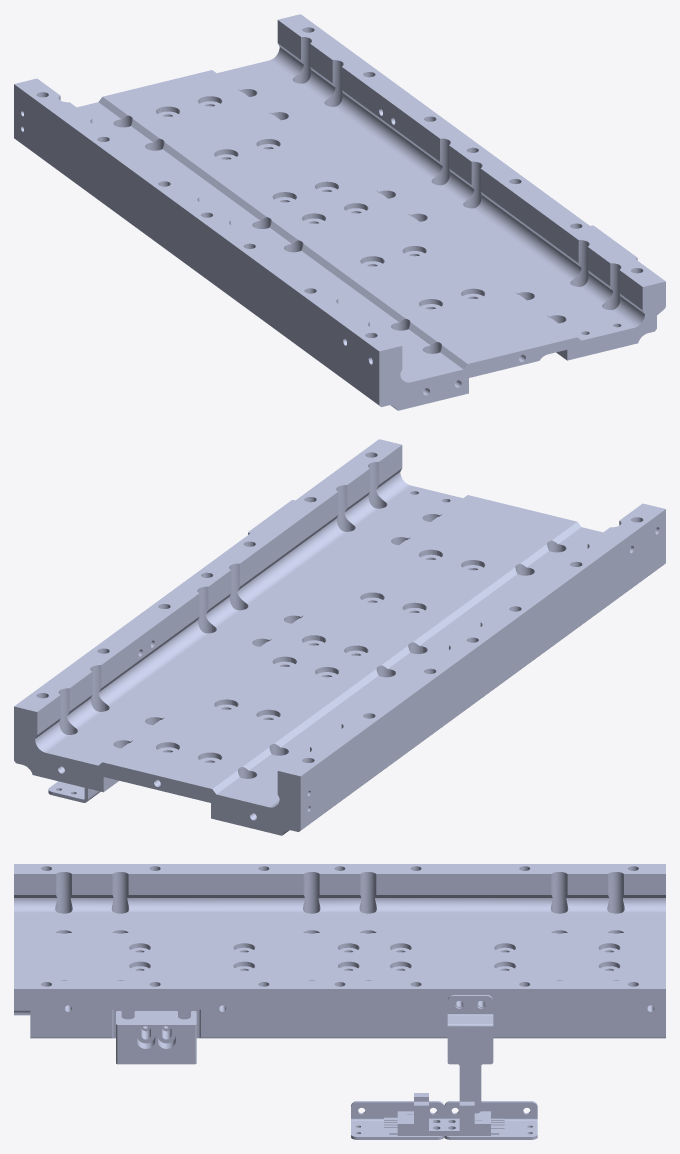
Rendered from MTA-15.glb.
3 views of the same model, one above another, from view 1: azimuth 30°, elevation 25°; view 2: azimuth 150°, elevation 25°; view 3: azimuth 270°, elevation 25° (orthographic). The views are drawn at different scales.
Parts seen in each view (by area): view 1: 134X-12-MTA15-23091201_node; view 2: 134X-12-MTA15-23091201_node, 134X-30-1_X2_5f0051735b8988c5652f67b6_X0_V1.0_node; view 3: 134X-12-MTA15-23091201_node, 134X-31-1 _X2_59167f6e906e632194a391d1_X0_V1.0_node, 134X-101-5_X2_8bfb657059348fde63a55757_X0_V1.0, 134X-30-1_X2_5f0051735b8988c5652f67b6_X0_V1.0_node_1, 134X-30-1_X2_5f0051735b8988c5652f67b6_X0_V1.0_node, SH-SL674_X2_5f005173_X0__node, SH-SL674_X2_5f005173_X0__node_1.
Part boxes in pixels (x1=…): 134X-12-MTA15-23091201_node: x1=14, y1=14, x2=665, y2=410; 134X-12-MTA15-23091201_node: x1=14, y1=439, x2=665, y2=835; 134X-30-1_X2_5f0051735b8988c5652f67b6_X0_V1.0_node: x1=48, y1=781, x2=100, y2=802; 134X-12-MTA15-23091201_node: x1=14, y1=864, x2=665, y2=1038; 134X-31-1 _X2_59167f6e906e632194a391d1_X0_V1.0_node: x1=447, y1=995, x2=493, y2=1113; 134X-101-5_X2_8bfb657059348fde63a55757_X0_V1.0: x1=116, y1=1011, x2=196, y2=1064; 134X-30-1_X2_5f0051735b8988c5652f67b6_X0_V1.0_node_1: x1=351, y1=1101, x2=444, y2=1139; 134X-30-1_X2_5f0051735b8988c5652f67b6_X0_V1.0_node: x1=444, y1=1101, x2=537, y2=1139; SH-SL674_X2_5f005173_X0__node: x1=384, y1=1093, x2=444, y2=1135; SH-SL674_X2_5f005173_X0__node_1: x1=444, y1=1101, x2=504, y2=1135.
Size of the model in its own units: 155 by 67.8 by 300.
